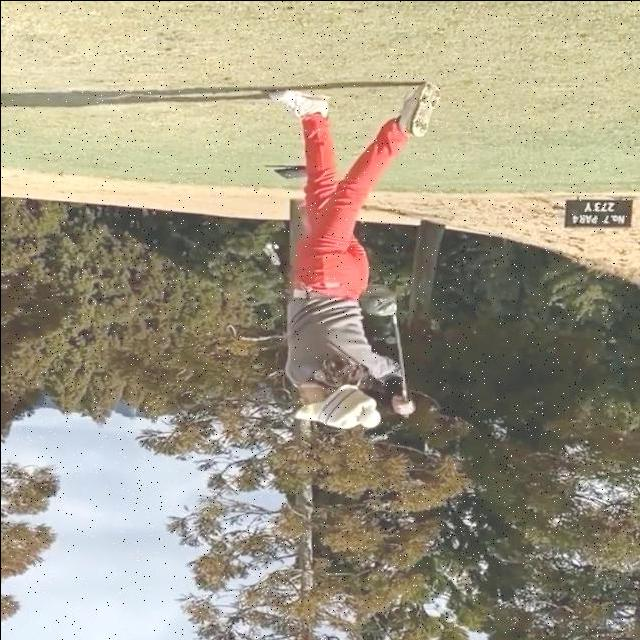golf club-handle: (357, 283, 408, 416)
golf club-head: (357, 283, 396, 315)
